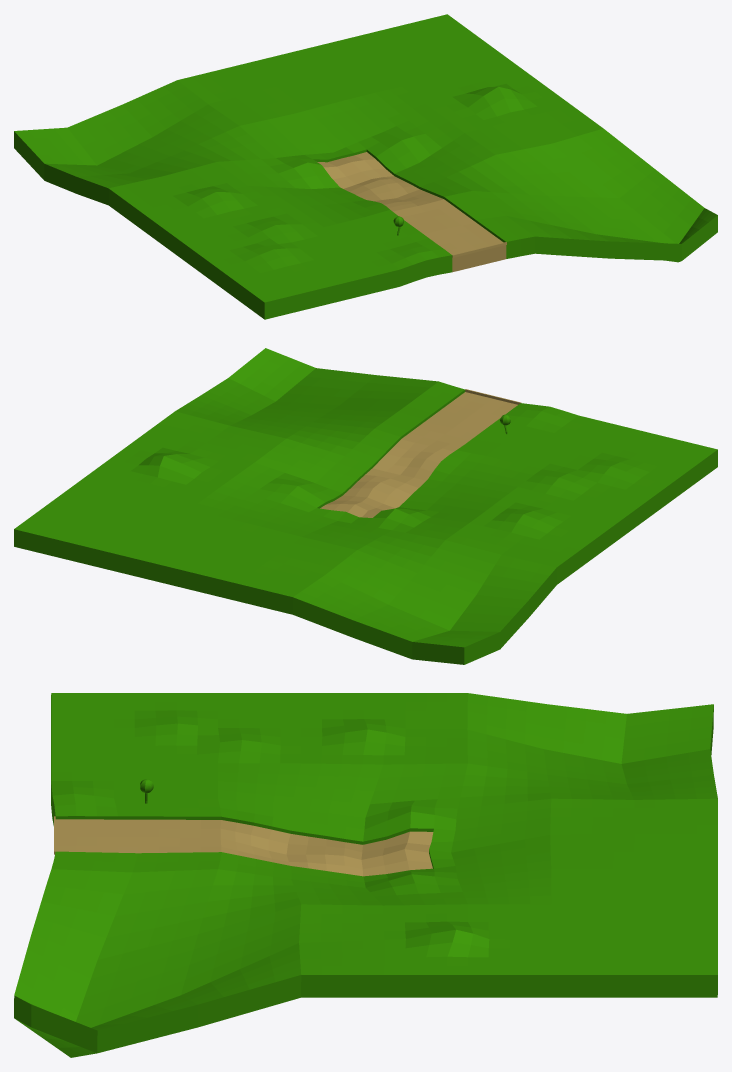
3 renders of one model, top to bottom at view 1: azimuth 30°, elevation 25°; view 2: azimuth 150°, elevation 25°; view 3: azimuth 270°, elevation 25°, orthographic. The views are drawn at different scales.
Visible parts, largest first — view 1: Plane.001; view 2: Plane.001; view 3: Plane.001.
Part boxes in pixels (x1,y1,x2,y2): Plane.001: (14, 14, 717, 319); Plane.001: (14, 348, 717, 664); Plane.001: (14, 693, 717, 1057).
Bounding box in the file's own units: 381 × 67.76 × 377.
